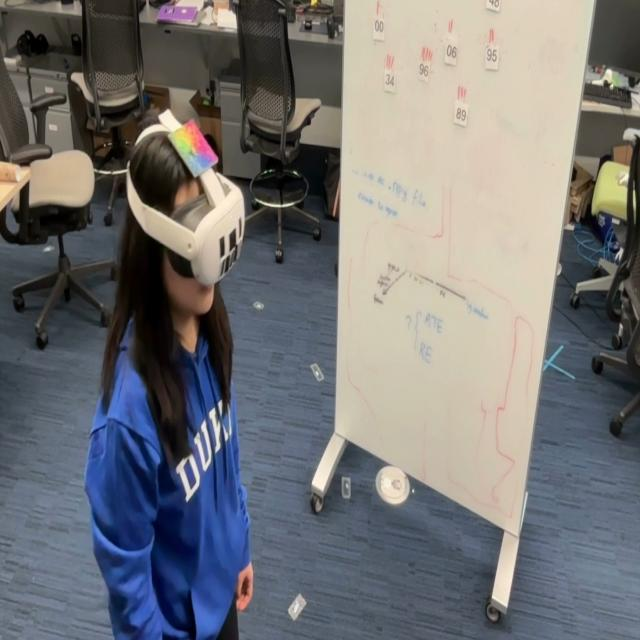Headset: (125, 124, 245, 287)
